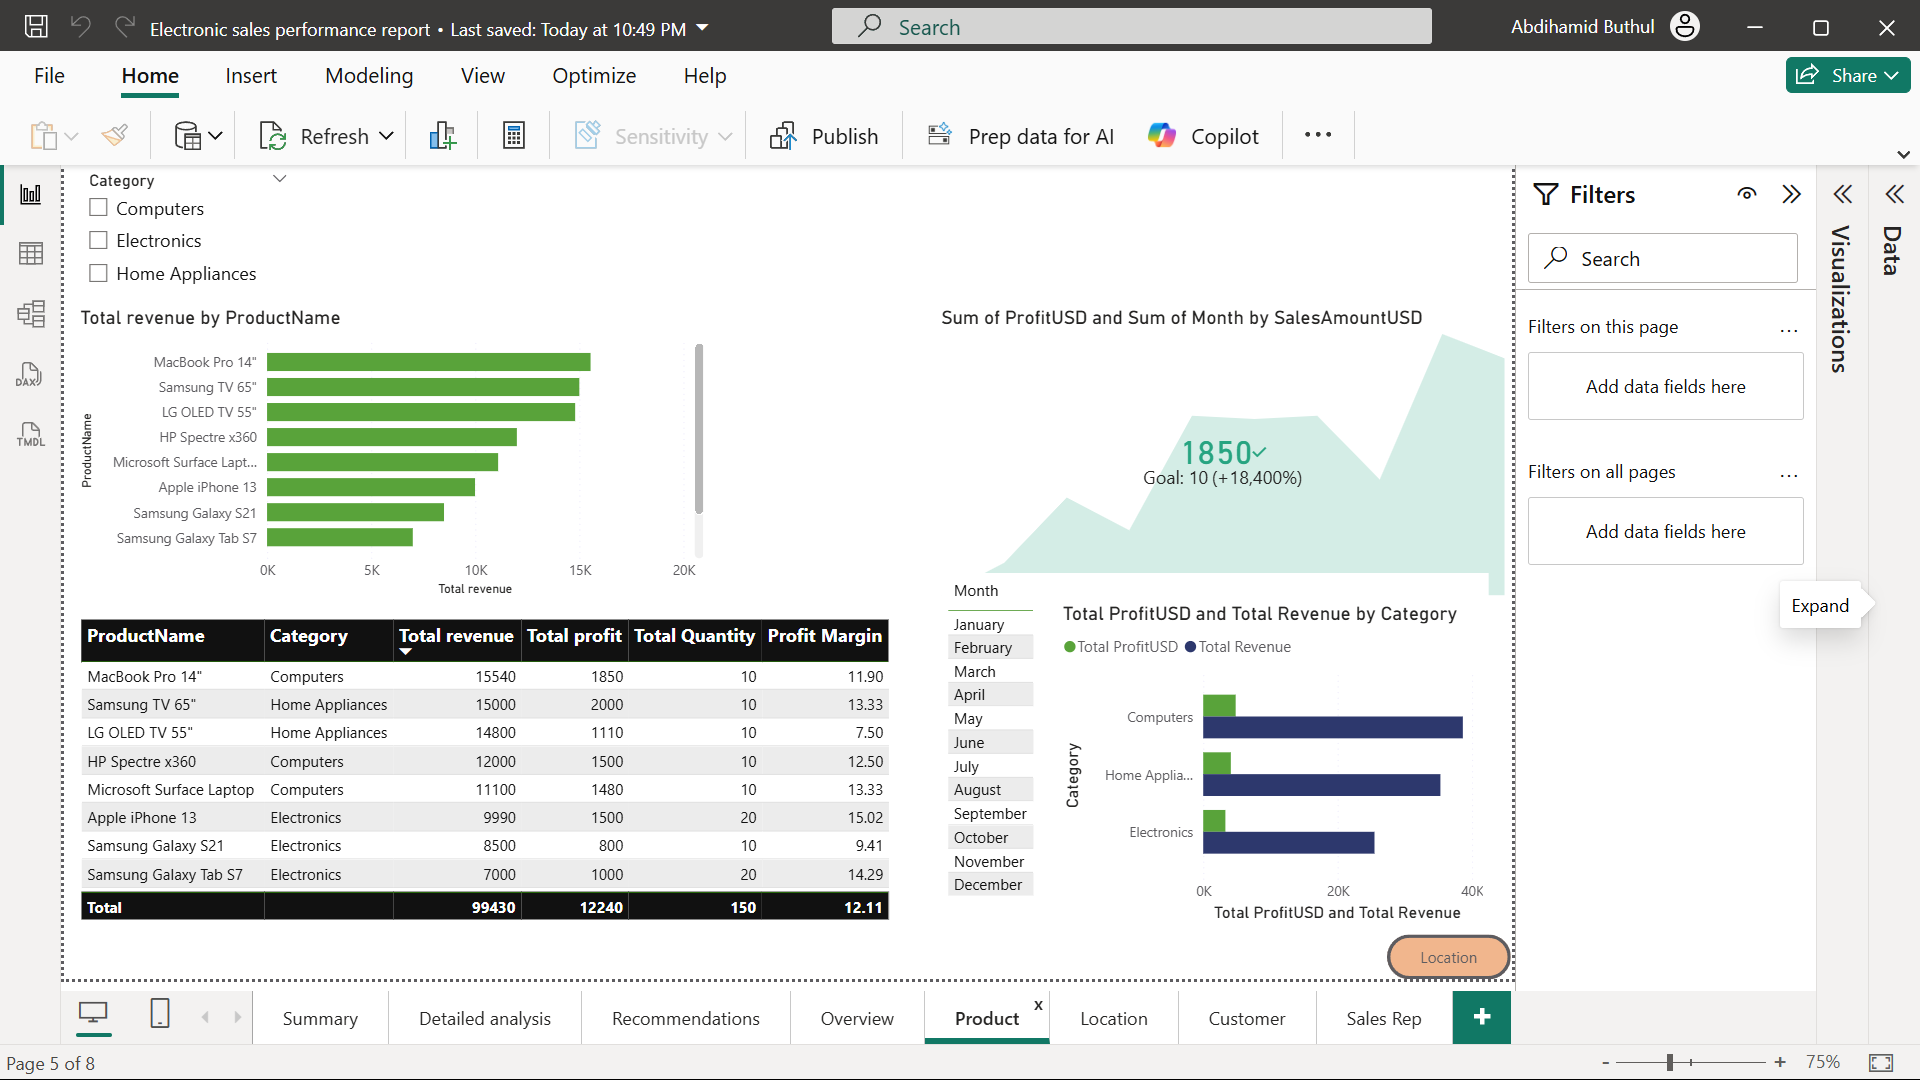

Layout of this report page (visuals, bound fields, positions):
{"tool":"powerbi","page":{"name":"Product","canvas":[1280,720],"ordinal":4},"visuals":[{"type":"slicer","fields":{"Values":["Product.Category"]},"box":[9.4,0,200.3,153.1],"z":0},{"type":"clusteredBarChart","fields":{"Category":["Product.ProductName"],"Y":["Sum(FactSales.SalesAmountUSD)"]},"box":[9.4,124.7,561.3,260.8],"z":1000},{"type":"tableEx","fields":{"Values":["Product.ProductName","Product.Category","Sum(FactSales.SalesAmountUSD)","Sum(FactSales.ProfitUSD)","Sum(FactSales.Quantity)","FactSales.Profit Margin"]},"box":[9.4,396.9,789.9,275.9],"z":2000},{"type":"kpi","fields":{"Indicator":["Sum(FactSales.ProfitUSD)"],"TrendLine":["FactSales.SalesAmountUSD"],"Goal":["Sum(Time.Month)"]},"box":[771,124.7,508.4,260.8],"z":3000},{"type":"tableEx","fields":{"Values":["Time.OrderDate.Variation.Date Hierarchy.Month"]},"box":[776.7,360.9,483.8,311.8],"z":4000},{"type":"clusteredBarChart","fields":{"Category":["Product.Category"],"Y":["Sum(FactSales.ProfitUSD)","Sum(FactSales.SalesAmountUSD)"]},"box":[878.7,385.5,381.7,287.2],"z":5000},{"type":"actionButton","box":[1169.8,680.3,109.6,39.7],"z":6000}]}

Visuals, with their boxes on the page's 1280x720 design canvas (x1, y1, x2, y2). These are canvas units, not pixel positions in the 1920x1080 screenshot, which may show the page scaled, cropped or inside an application window:
slicer - Product.Category: <region>9, 0, 210, 153</region>
clusteredBarChart - Product.ProductName x Sum(FactSales.SalesAmountUSD): <region>9, 125, 571, 386</region>
tableEx - Product.ProductName x Product.Category: <region>9, 397, 799, 673</region>
kpi - Sum(FactSales.ProfitUSD) x FactSales.SalesAmountUSD: <region>771, 125, 1279, 386</region>
tableEx - Time.OrderDate.Variation.Date Hierarchy.Month: <region>777, 361, 1260, 673</region>
clusteredBarChart - Product.Category x Sum(FactSales.ProfitUSD): <region>879, 386, 1260, 673</region>
actionButton: <region>1170, 680, 1279, 720</region>
